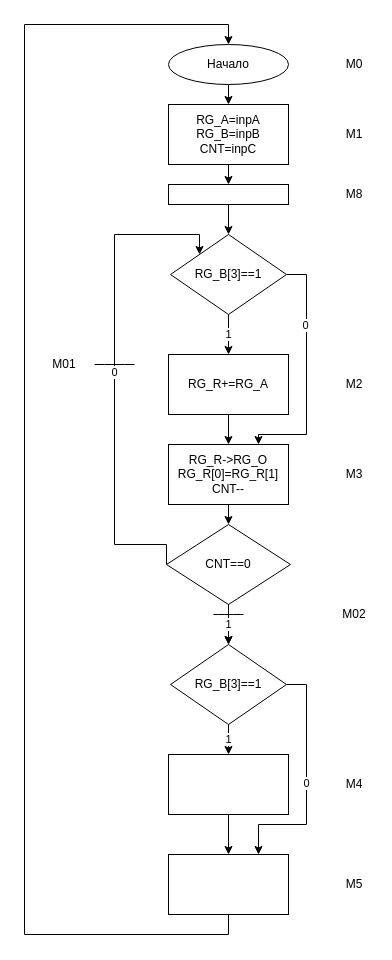
The diagram is 392 pixels wide and 960 high, and some of its shapes have lost their labels. Each missing label, with the centre of its shape:
"RG_R-=RG_A" goes at point (228, 784).
"RG_R->RG_O RG_R[0]=RG_R[1]" goes at point (228, 884).
"void" goes at point (228, 194).
